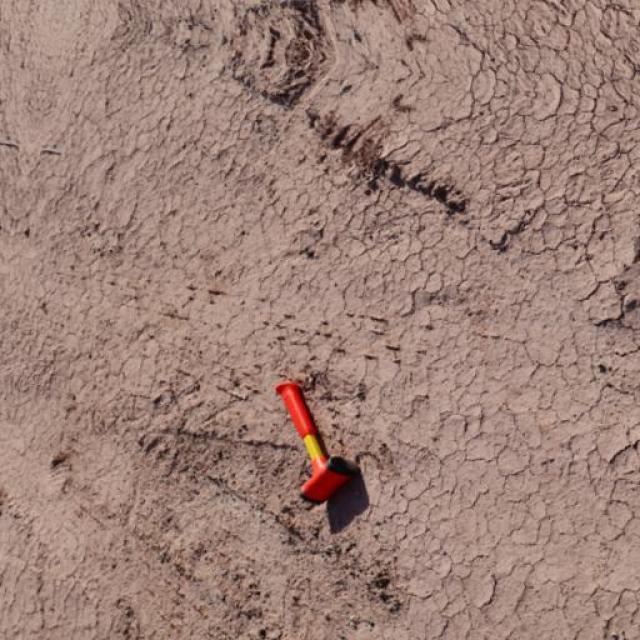mallet: (272, 380, 358, 502)
